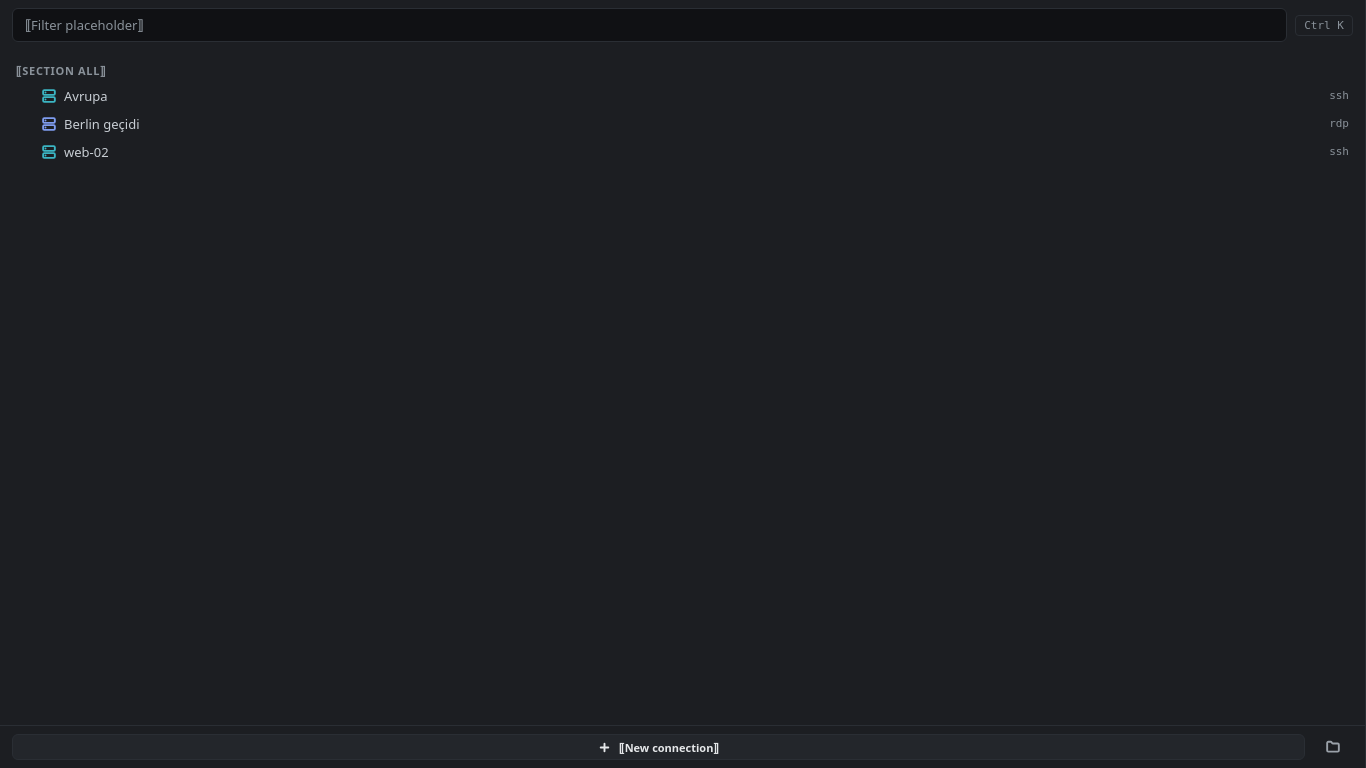
it: the sidebar in Turkish › finds a machine by its hostname, which is not a Turkish word
Check: the list item "Berlin geçidi rdp" is shown, box [8,110,1357,138]
Step 1. Type "vdi" into the field → (650, 25), box [12,8,1287,42]
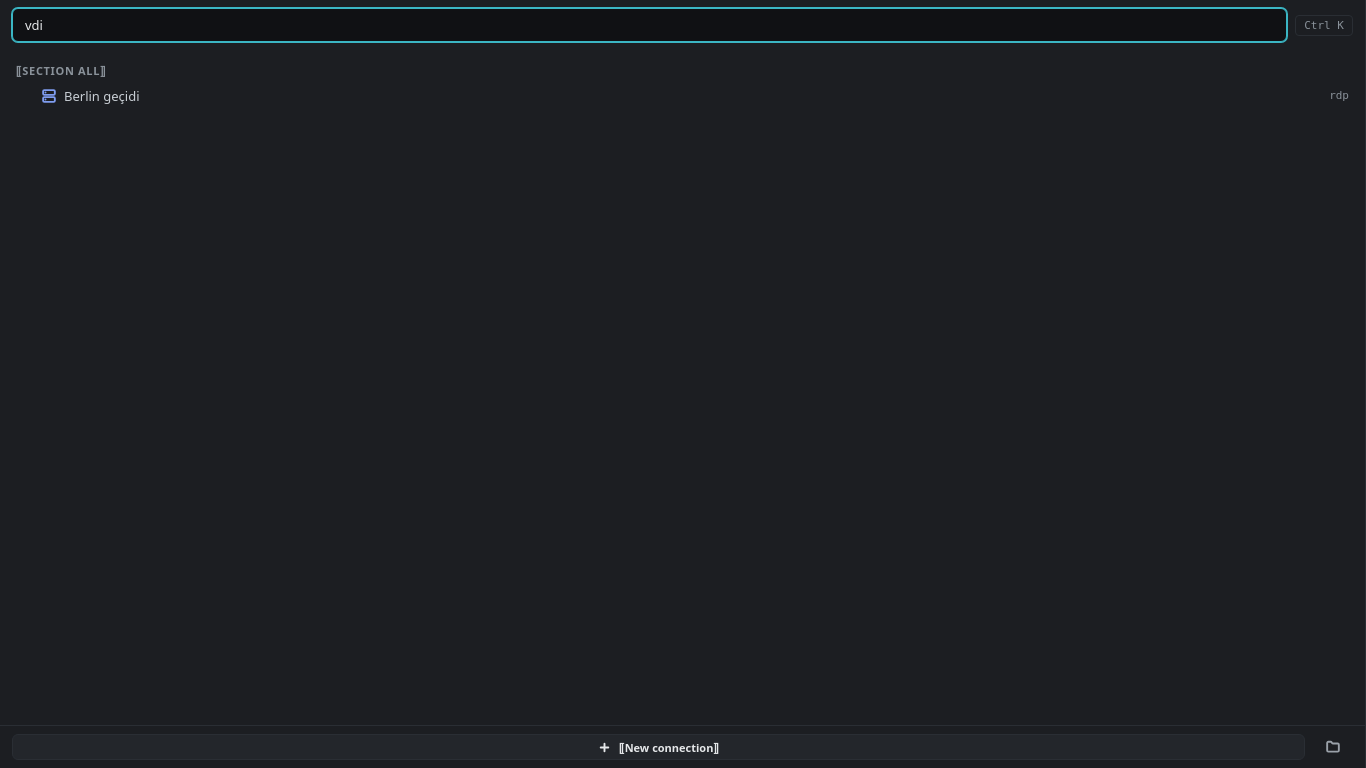
Check: the list item "Berlin geçidi rdp" is shown, box [8,82,1357,110]
Check: the text "web-02" is gone
